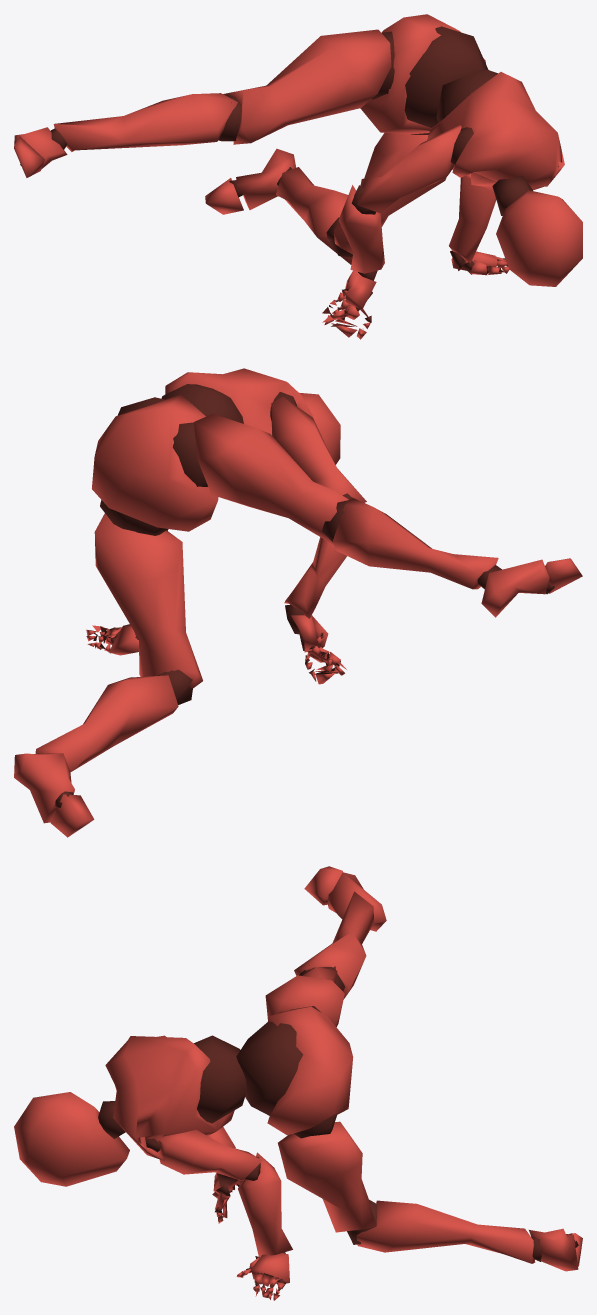
The picture shows the model from 3 angles, top to bottom: view 1: azimuth 30°, elevation 25°; view 2: azimuth 150°, elevation 25°; view 3: azimuth 270°, elevation 25°; orthographic projection. The views are drawn at different scales.
Visible parts, largest first — view 1: Beta_Surface; view 2: Beta_Surface; view 3: Beta_Surface.
Part boxes in pixels (x1,y1,x2,y2): Beta_Surface: [14, 14, 582, 339]; Beta_Surface: [14, 368, 582, 837]; Beta_Surface: [14, 866, 582, 1300].
Bounding box in the file's own units: 14.2 × 8.09 × 14.86.
